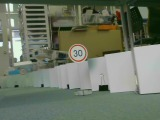speed_30: (67, 43, 89, 64)
